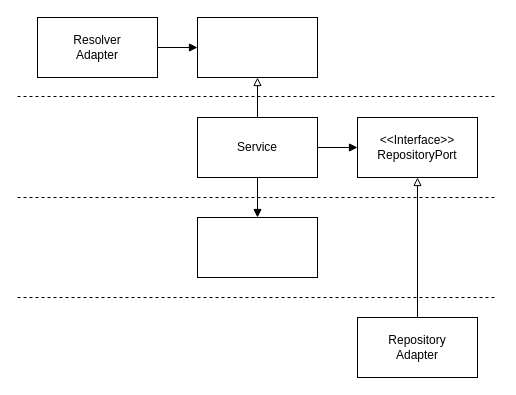
The diagram is 516 pixels wide and 395 high, and some of its shapes have lost their labels. The box of each missing label's shape, as (x1, y1, x2, y2) in pixels:
<<Interface>> ServicePort: (196, 16, 318, 78)
Domain: (196, 216, 318, 278)
